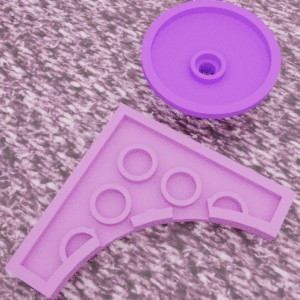lego: (4, 103, 296, 300), (141, 0, 280, 118)
